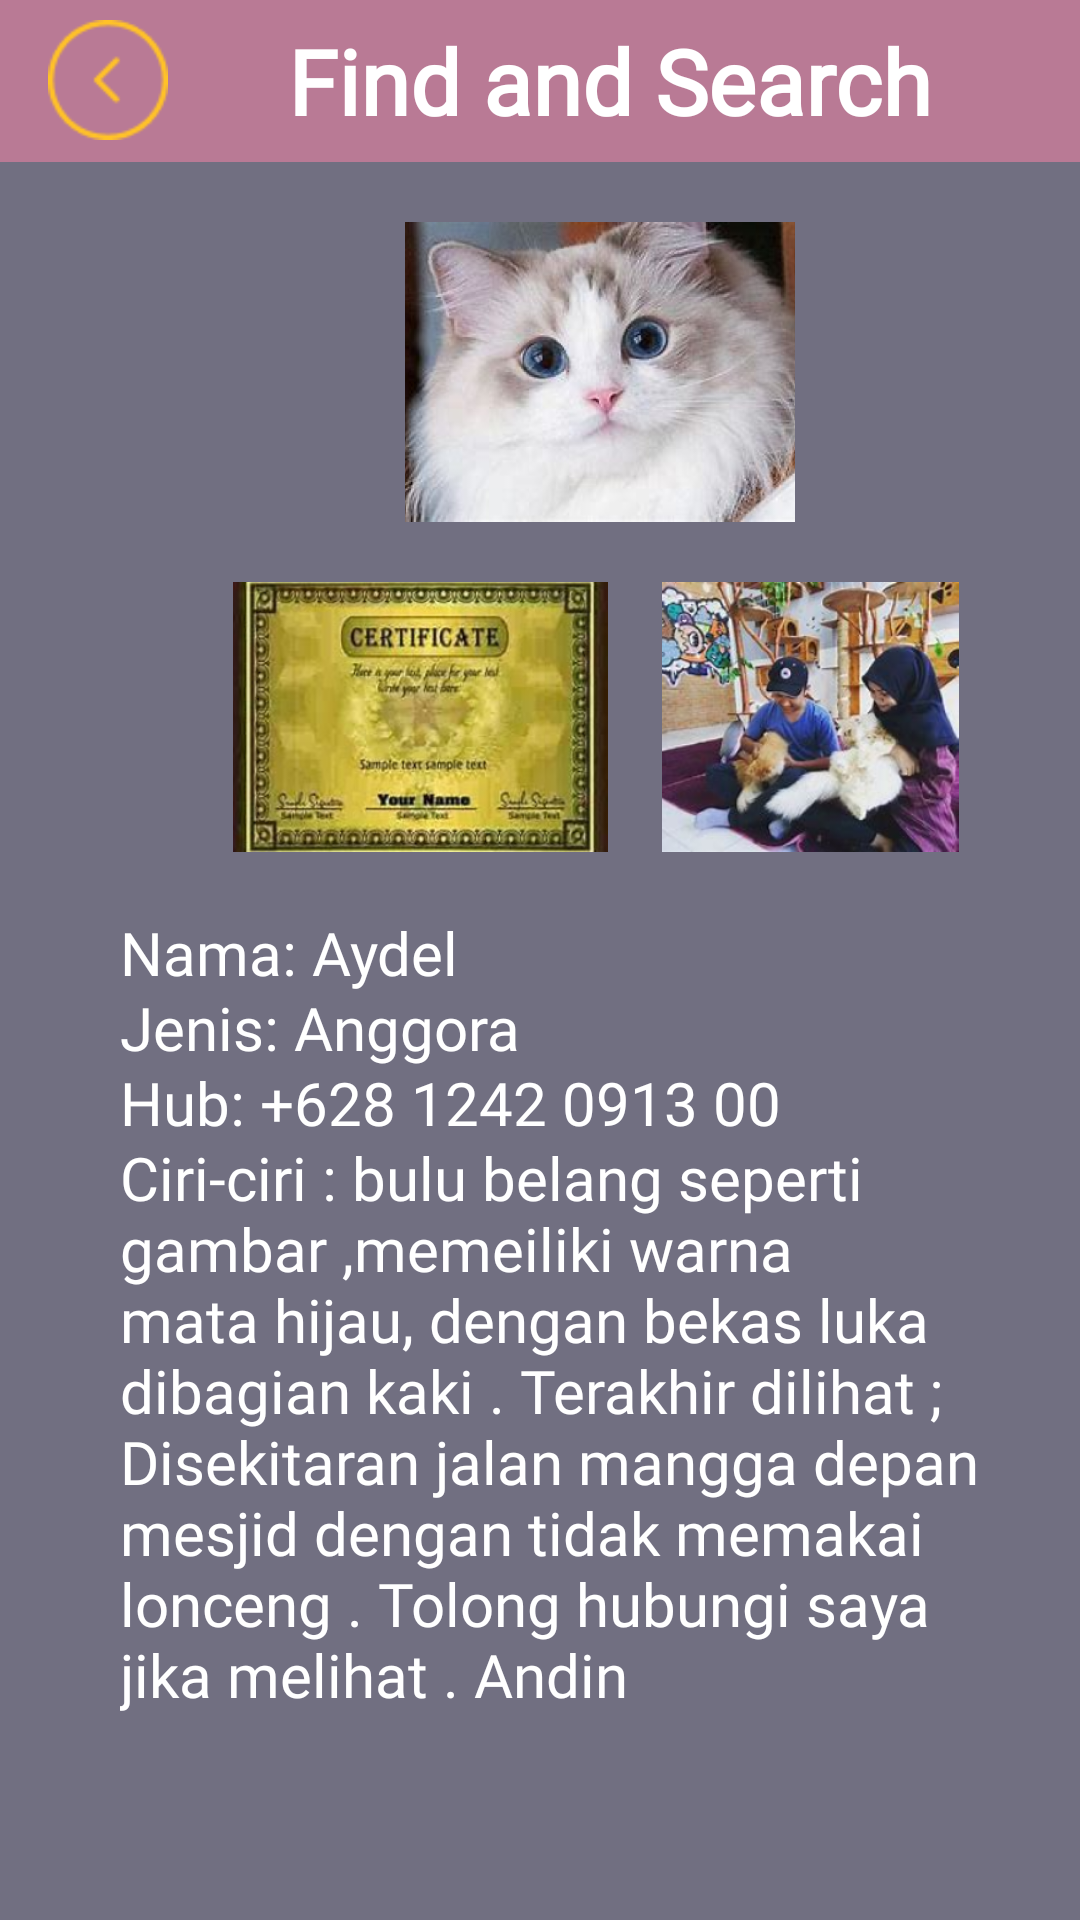

Locate icon controls on the screen. Image size 1080*1920, boxes as bbox(x1, y1, x2, y2).
back: bbox(48, 20, 168, 140)
